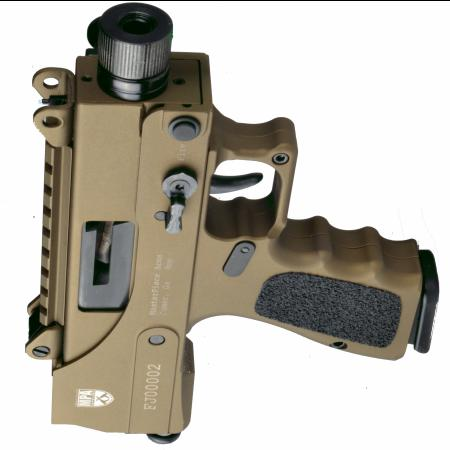Pistol: (19, 1, 441, 444)
